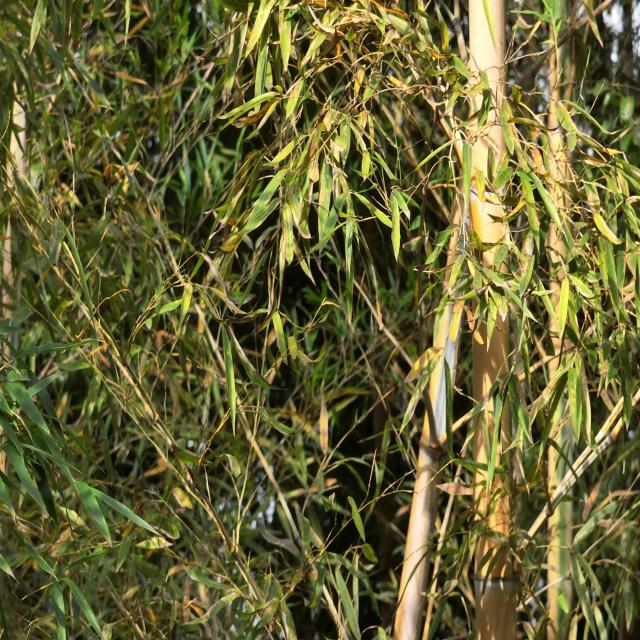Bamboo-shoots: (470, 0, 517, 640)
